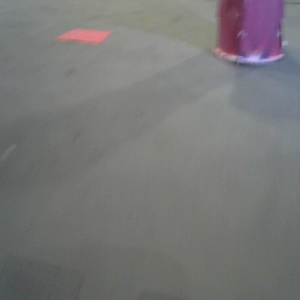right: (191, 1, 293, 139)
